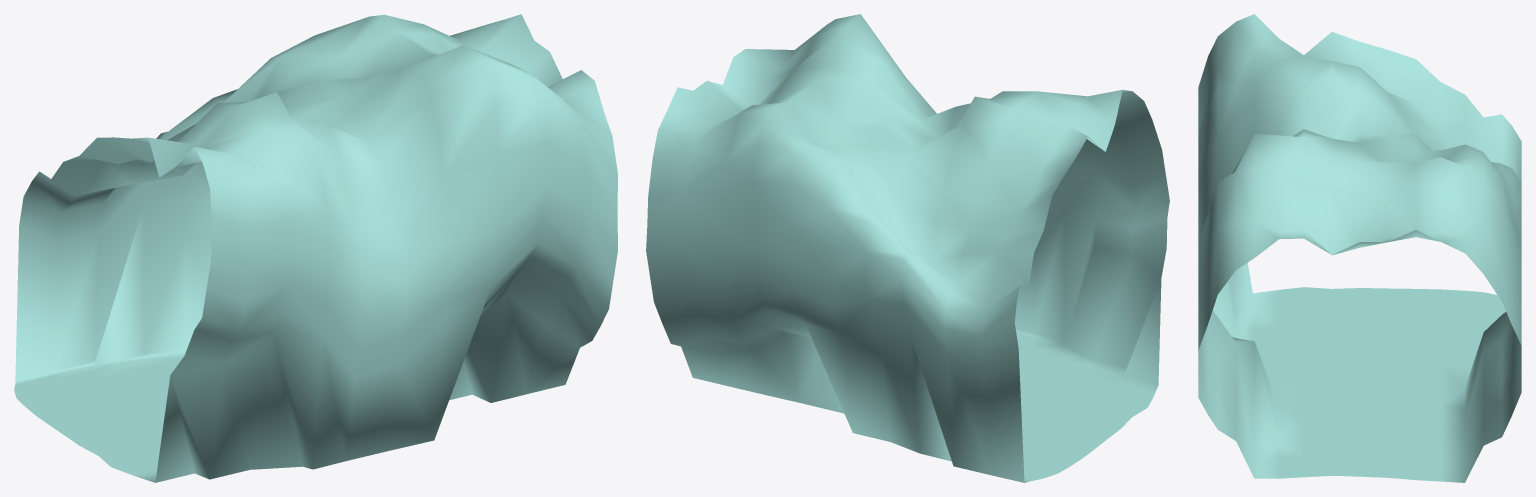
File: icestage.FBX
The picture shows the model from 3 angles, left to right: view 1: azimuth 30°, elevation 25°; view 2: azimuth 150°, elevation 25°; view 3: azimuth 270°, elevation 25°; orthographic projection. The views are drawn at different scales.
Parts seen in each view (by area): view 1: Cylinder001; view 2: Cylinder001; view 3: Cylinder001.
Boxes of the visible parts, x1,y1,x2,y2 form: Cylinder001: [14, 14, 617, 482]; Cylinder001: [646, 14, 1169, 482]; Cylinder001: [1198, 14, 1521, 482].
Bounding box in the file's own units: 144 × 101 × 93.59.
